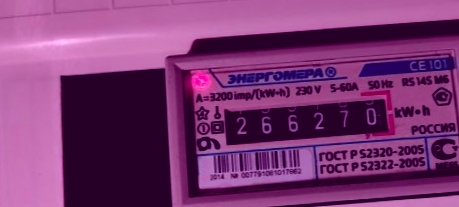0: (362, 107, 376, 128)
2: (231, 117, 247, 138), (309, 111, 324, 132)
6: (257, 115, 271, 137), (284, 114, 298, 135)
7: (335, 110, 348, 130)
screen: (212, 88, 399, 154)
